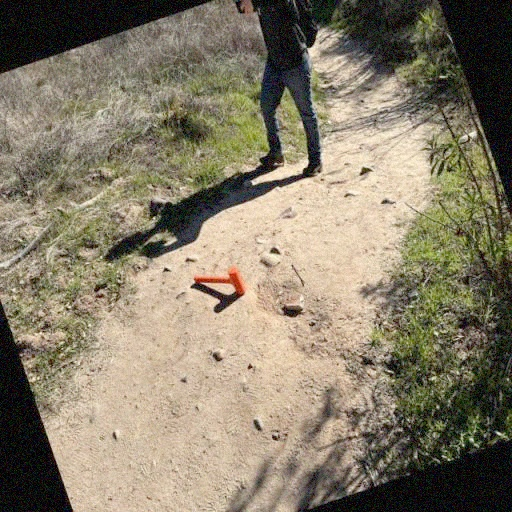mallet: (192, 260, 248, 308)
